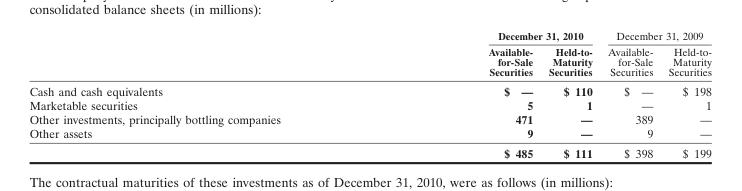table: (28, 29, 710, 159)
table column: (28, 29, 383, 159), (383, 29, 539, 159), (599, 29, 660, 159), (539, 29, 599, 159), (660, 29, 710, 159)
table column header: (28, 29, 710, 80)
table row: (28, 43, 710, 80), (28, 80, 710, 97), (28, 142, 710, 159), (28, 126, 710, 142), (28, 111, 710, 126), (28, 29, 710, 43), (28, 97, 710, 111)
table spanning cell: (383, 29, 599, 43), (599, 29, 710, 43)
